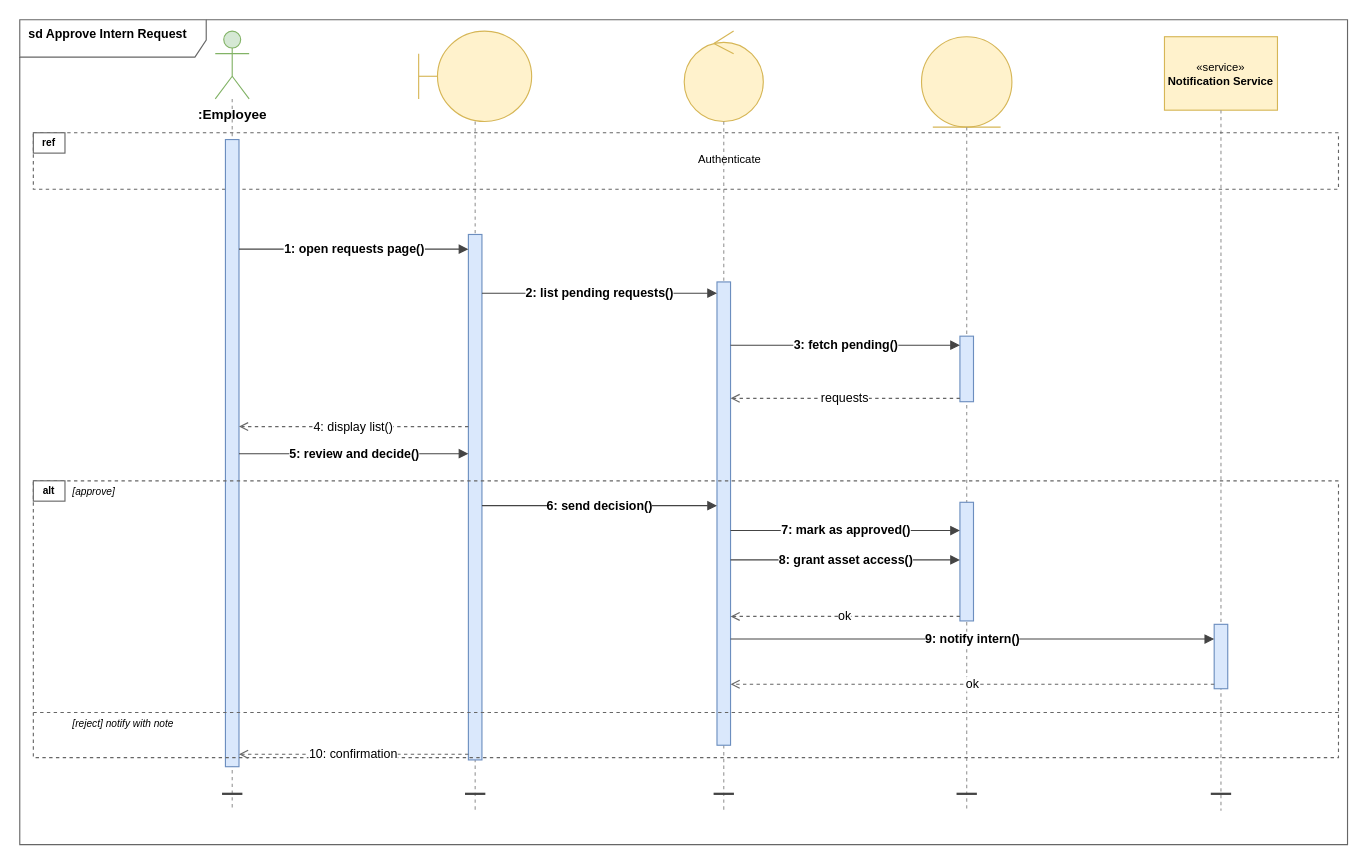
Some shapes in this 1367 by 864 pixel diagram are drawn without their labels. The shapes that lost their labels are listed below. From the top down, each one's centre as x and y in pixels, then its label:
At [475,75]: "«boundary» Moderation Interface".
At [723,75]: "Admin Controller".
At [966,81]: "«entity» Intern Request".
